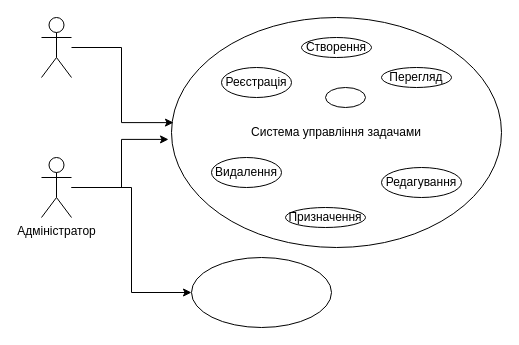
Some shapes in this 519 by 345 pixel diagram are drawn without their labels. The centre of each missing label's shape, as x and y in pixels:
"Адміністрування користувачів" goes at point 261,292.
"Вхід" goes at point 345,97.
"Користувач" goes at point 56,47.
